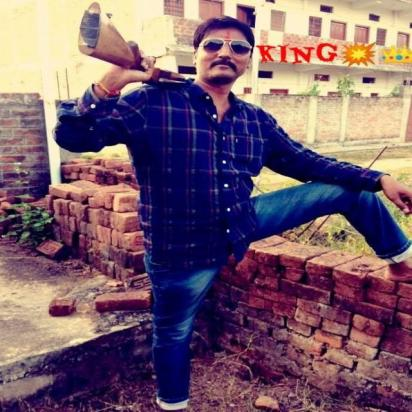Gun: (75, 0, 189, 86)
